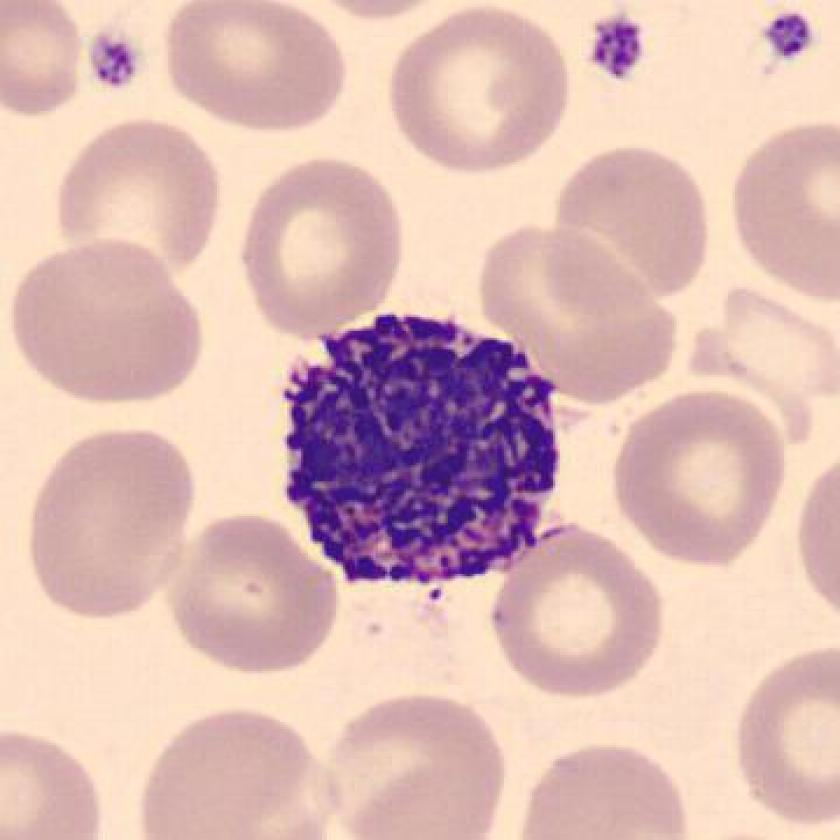basophil: (281, 311, 561, 584)
